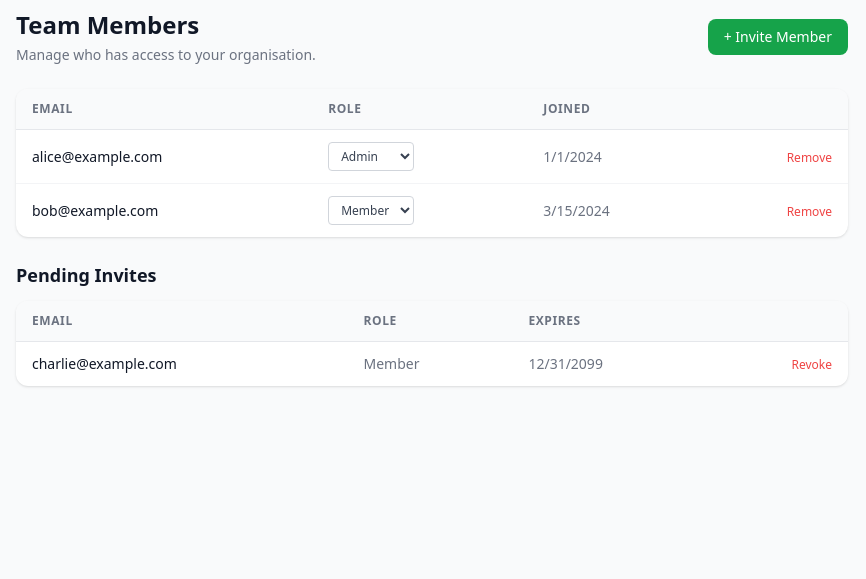
Test: TeamPage › shows invite form
Step 1. Click the button "+ Invite Member" → (778, 37), box [708,19,848,55]
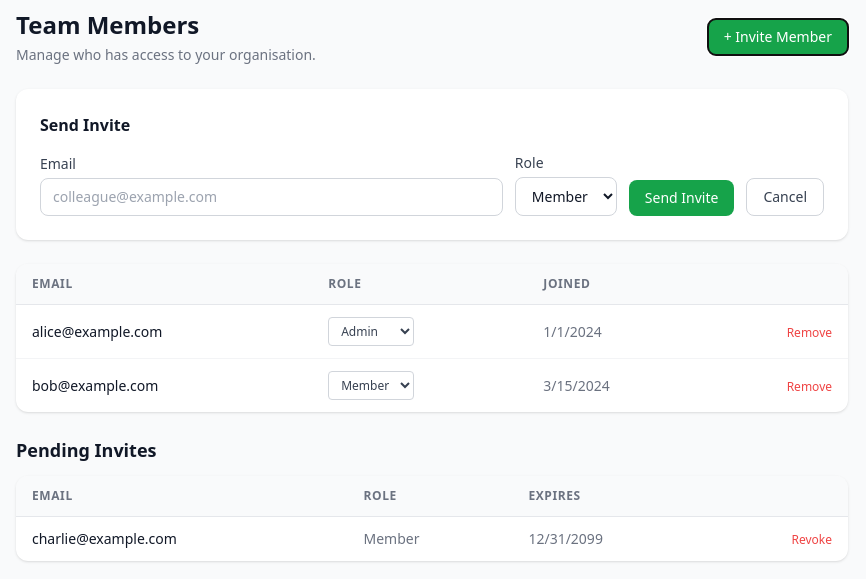
Expected: the heading "Send Invite" is shown, [40,114,130,136]
Expected: the field with placeholder "colleague@example.com" is shown, [40,178,503,216]
